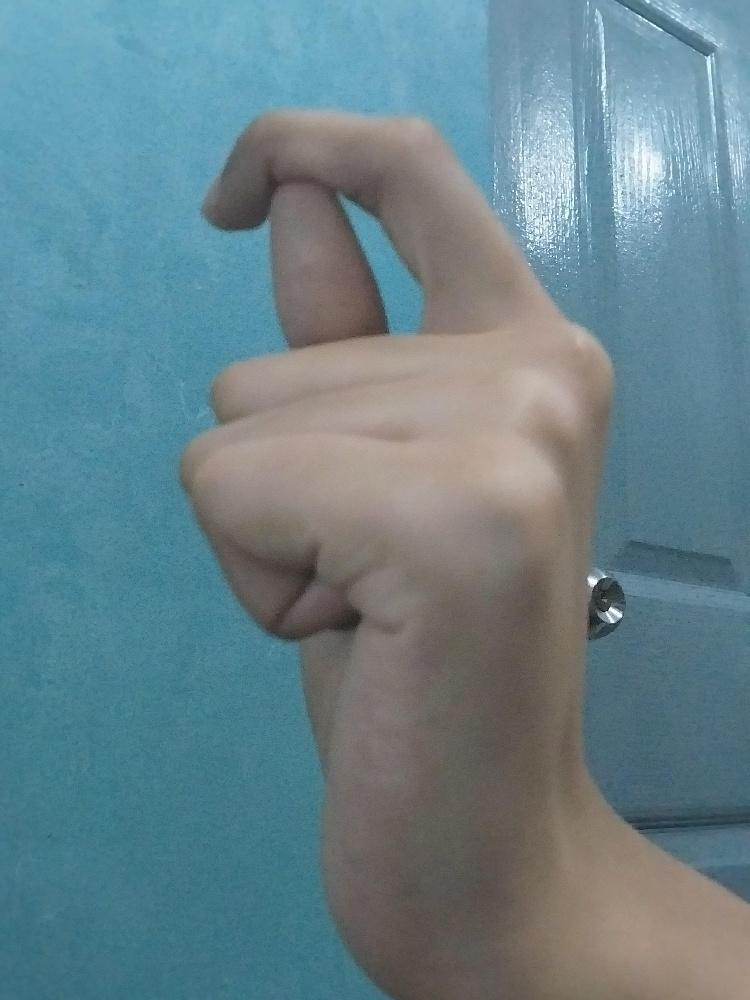t: (170, 103, 616, 999)
